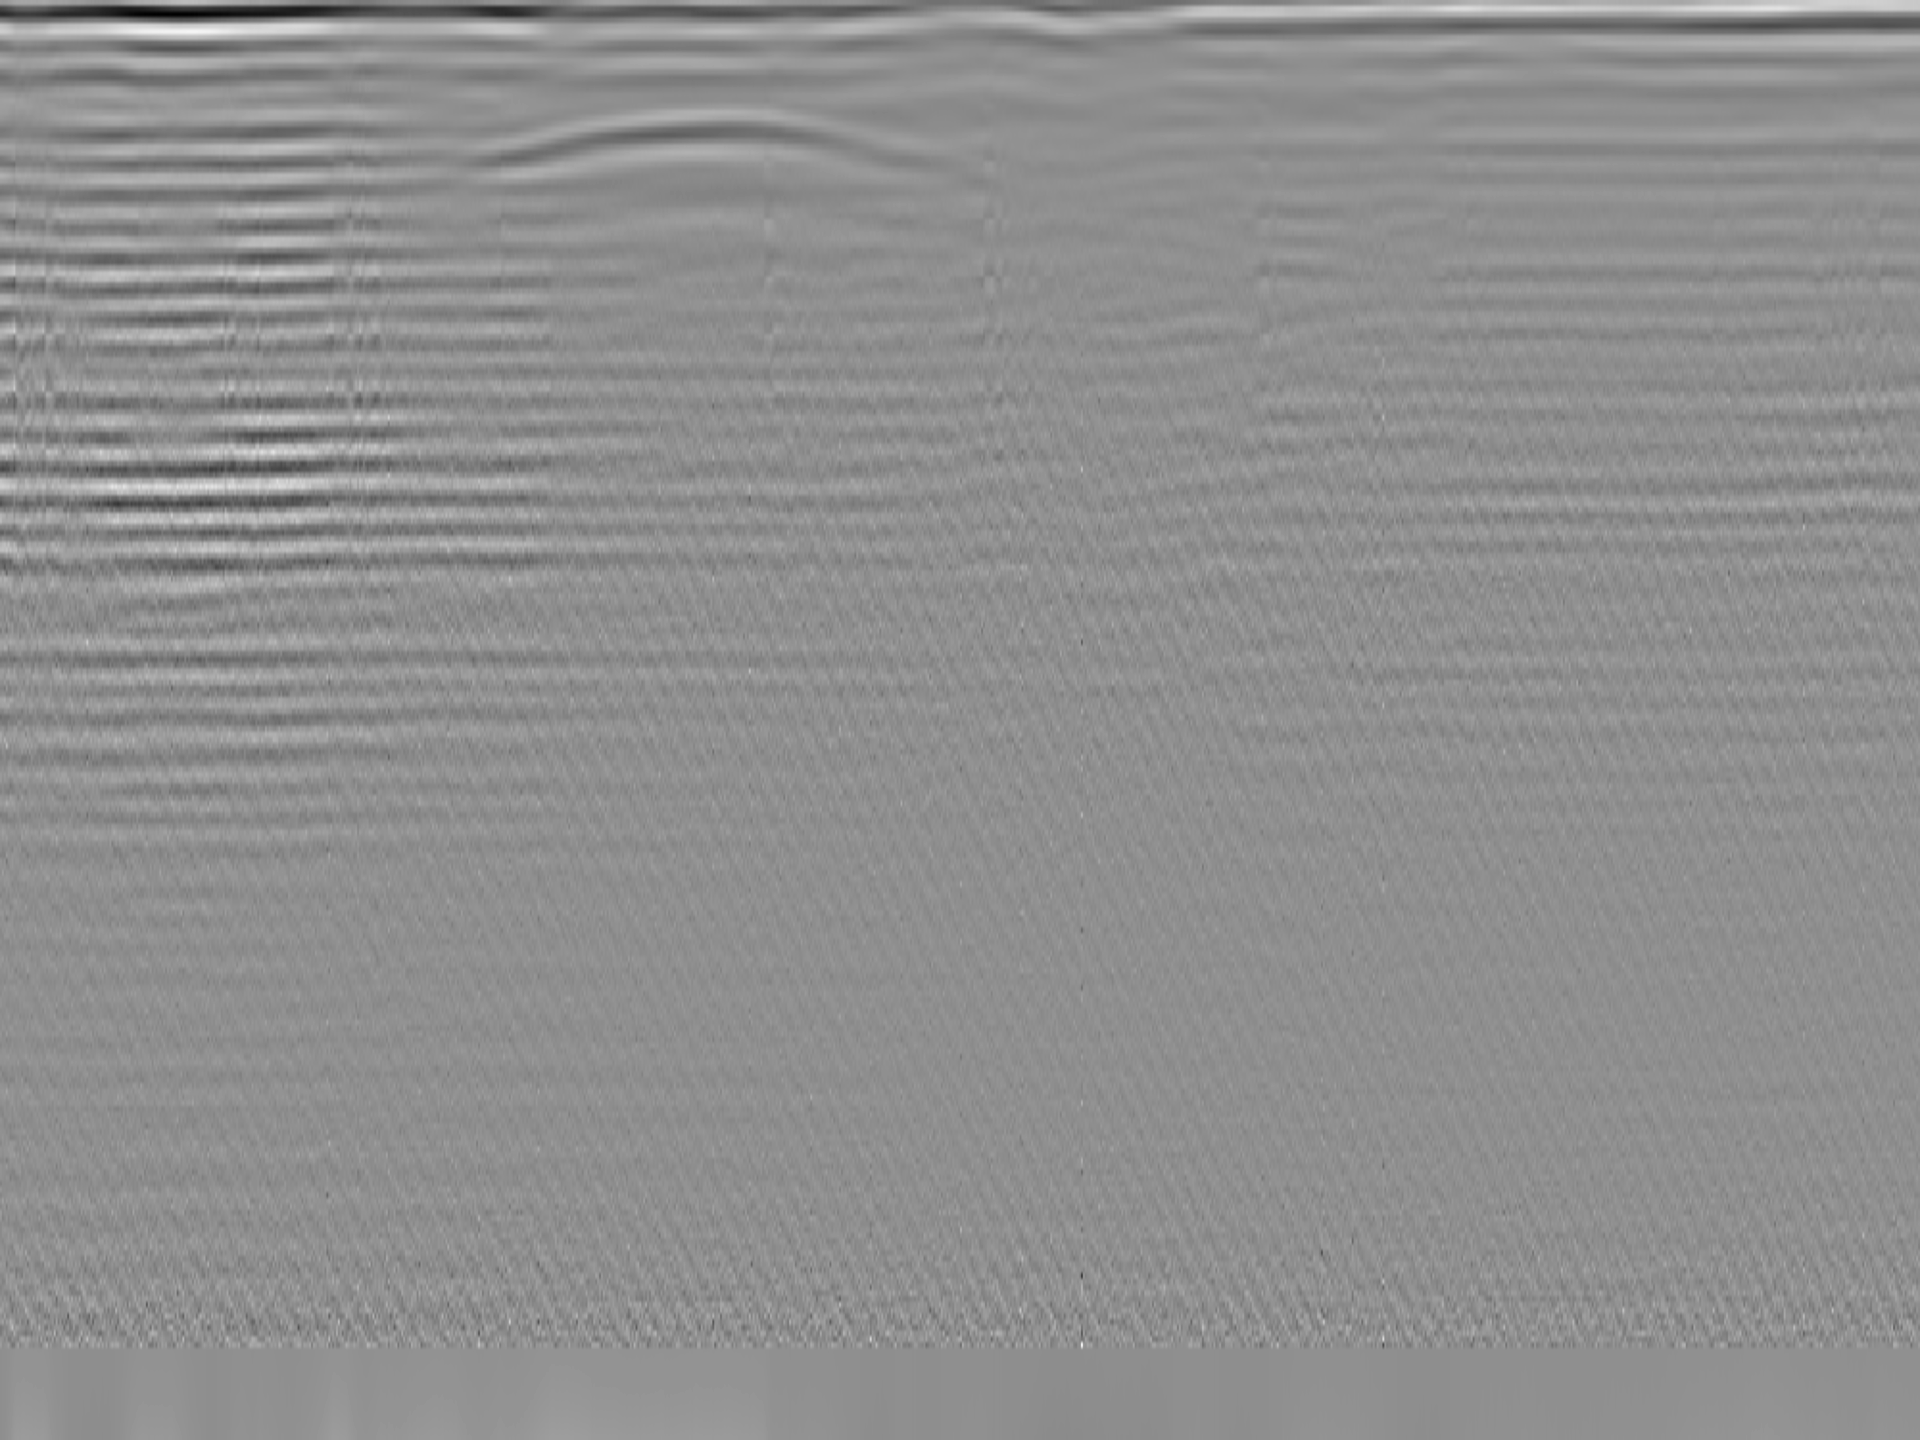Tunnel: (470, 106, 966, 182)
